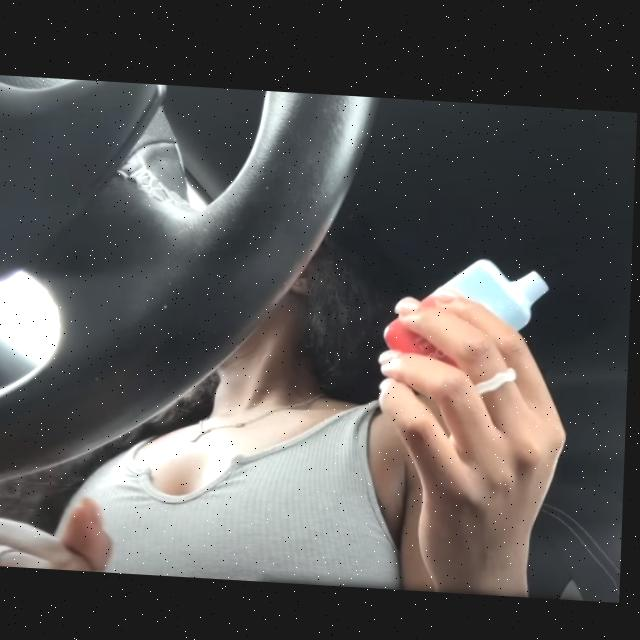vape: (385, 248, 553, 368)
